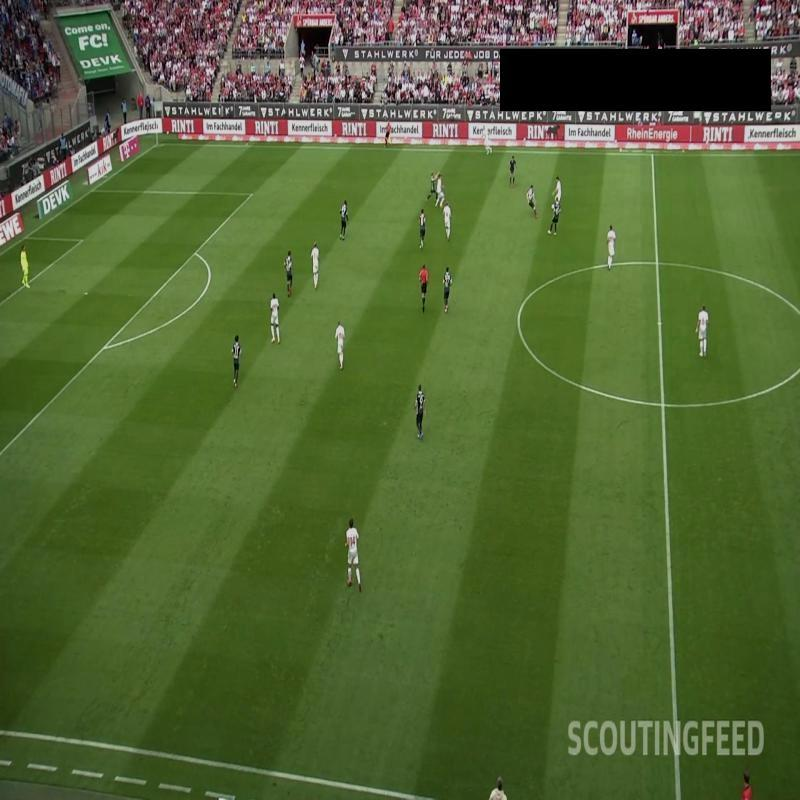1: (153, 136, 167, 150)
10: (190, 243, 204, 257)
11: (99, 338, 113, 352)
13: (646, 146, 660, 160)
14: (650, 255, 664, 269)
15: (656, 397, 670, 411)
2: (86, 182, 101, 196)
3: (19, 229, 33, 243)
7: (76, 232, 90, 246)
9: (245, 186, 259, 200)
c: (512, 311, 526, 325)
